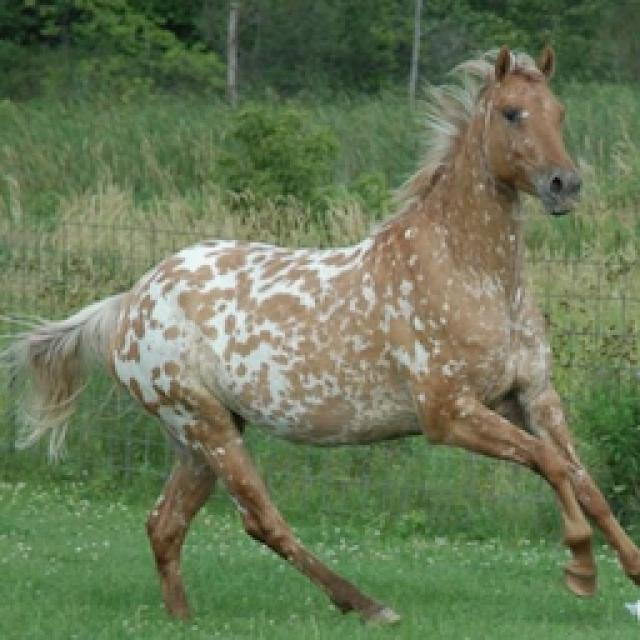Horse: (0, 38, 638, 632)
